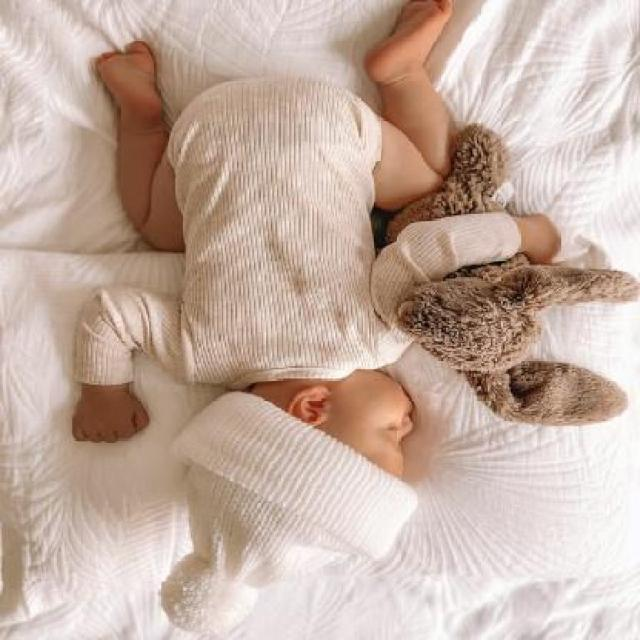baby: (70, 3, 558, 583)
